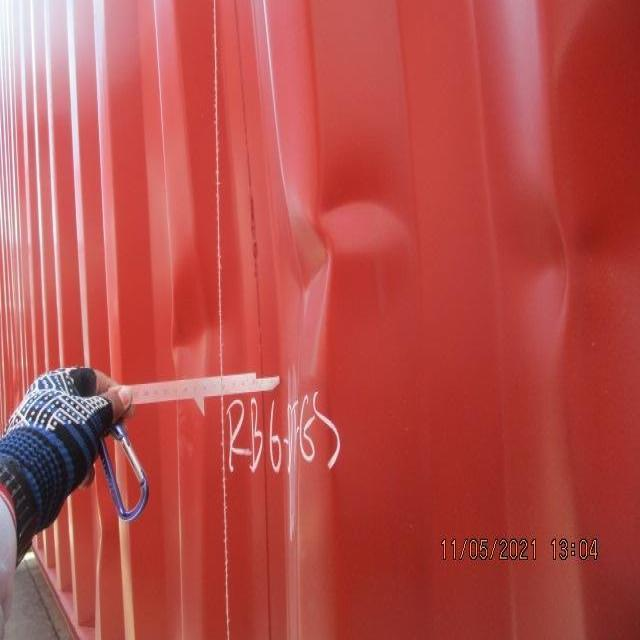dent: (105, 114, 591, 533)
